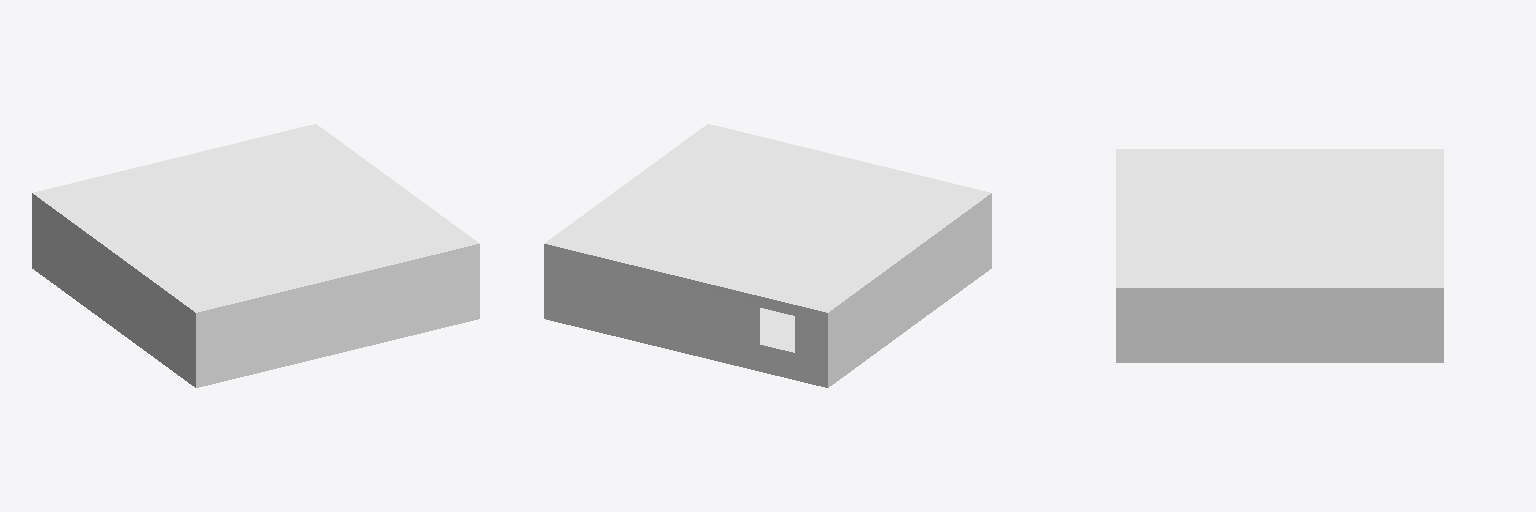
The picture shows the model from 3 angles: view 1: azimuth 30°, elevation 25°; view 2: azimuth 150°, elevation 25°; view 3: azimuth 270°, elevation 25°; orthographic projection.
Parts seen in each view (by area): view 1: out; view 2: out; view 3: out.
Part boxes in pixels (left/top/right/bottom): out: left=32, top=124, right=479, bottom=387; out: left=544, top=124, right=991, bottom=387; out: left=1116, top=149, right=1443, bottom=362.
Bounding box in the file's own units: 40.2 × 10.2 × 40.2.